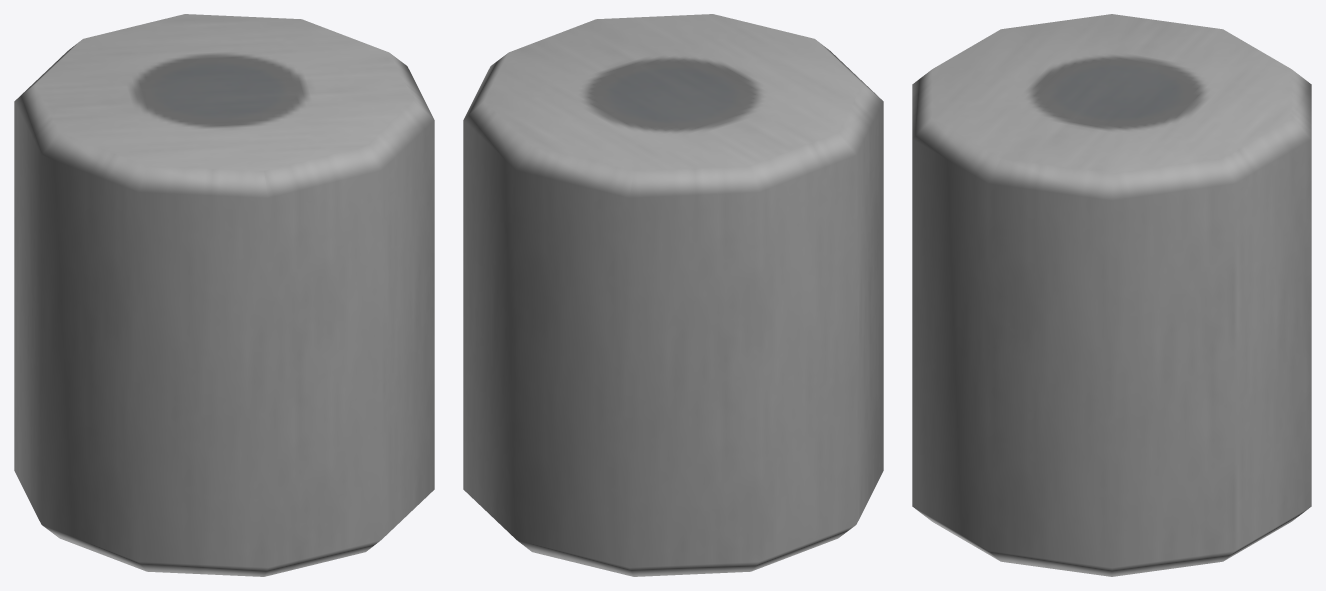
The model's file is Cleaners_01.fbx.
3 renders of one model, left to right at view 1: azimuth 30°, elevation 25°; view 2: azimuth 150°, elevation 25°; view 3: azimuth 270°, elevation 25°, orthographic.
Visible parts, largest first — view 1: Cleaners_01; view 2: Cleaners_01; view 3: Cleaners_01.
Part boxes in pixels (x1=…): Cleaners_01: x1=14, y1=14, x2=434, y2=576; Cleaners_01: x1=463, y1=14, x2=883, y2=576; Cleaners_01: x1=912, y1=14, x2=1311, y2=576.
Bounding box in the file's own units: 9.83 × 10.42 × 9.35.
